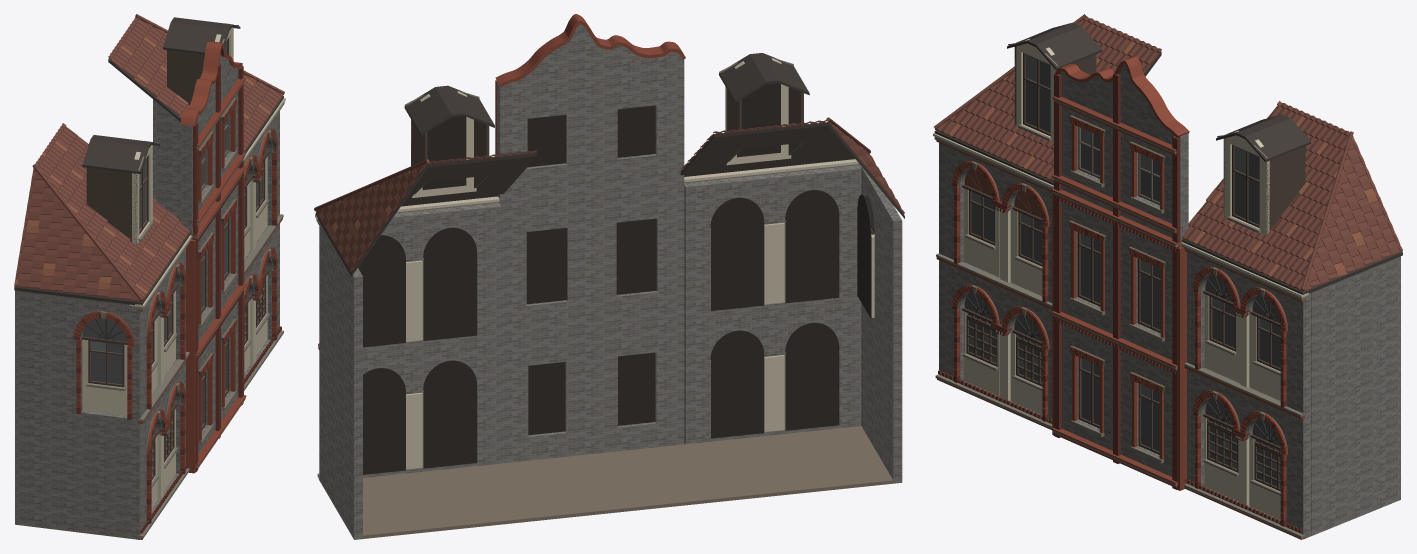
Rendered from hongkou-huoshan-119-121-arcaded-front-raw.glb.
3 views of the same model, side by side, from view 1: azimuth 30°, elevation 25°; view 2: azimuth 150°, elevation 25°; view 3: azimuth 270°, elevation 25° (orthographic). The views are drawn at different scales.
Visible parts, largest first — view 1: 霍山路119–121号住宅双拱窗与砖砌女儿墙; view 2: 霍山路119–121号住宅双拱窗与砖砌女儿墙; view 3: 霍山路119–121号住宅双拱窗与砖砌女儿墙.
Part boxes in pixels (<box>): 霍山路119–121号住宅双拱窗与砖砌女儿墙: <box>14,14,285,539</box>; 霍山路119–121号住宅双拱窗与砖砌女儿墙: <box>314,14,904,539</box>; 霍山路119–121号住宅双拱窗与砖砌女儿墙: <box>933,14,1402,539</box>.
Bounding box in the file's own units: 14.84 × 13.81 × 14.5.
19 materials, 1 textured.
